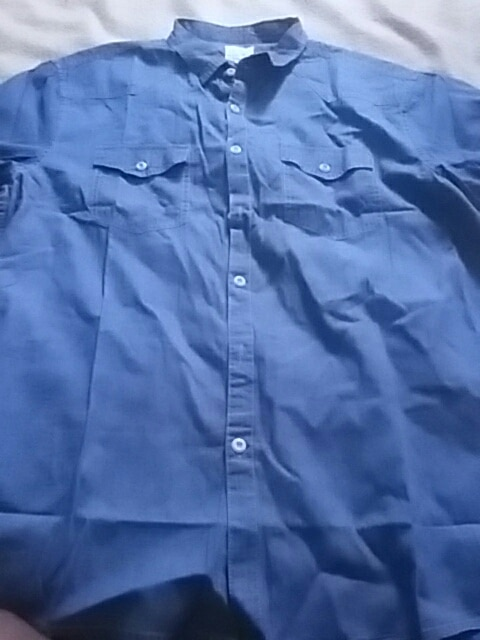shirts: (3, 15, 480, 637)
